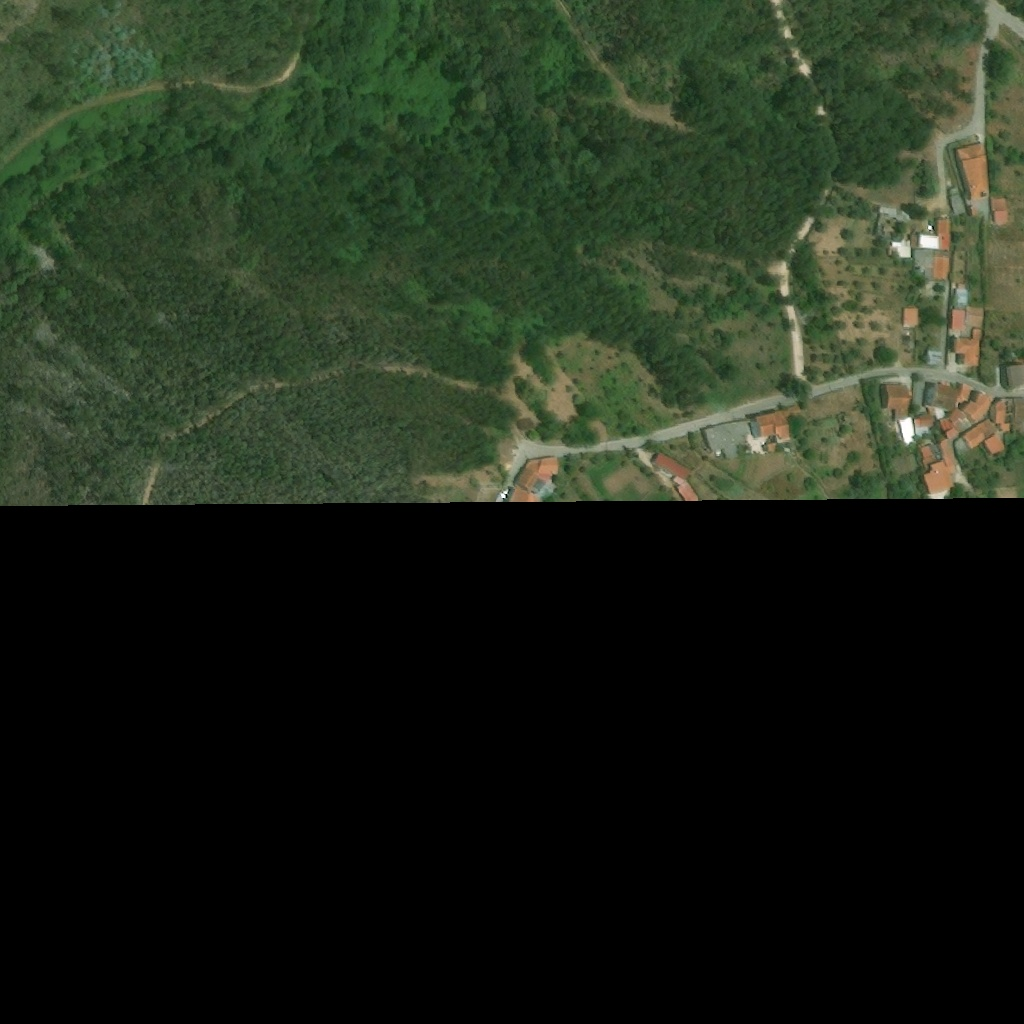0 no-damage: (880, 381, 916, 445), (924, 427, 959, 490), (955, 143, 990, 202), (702, 418, 752, 456), (754, 404, 802, 440), (922, 382, 972, 412), (511, 459, 553, 493), (962, 416, 998, 449), (652, 452, 692, 480), (962, 390, 994, 424), (954, 329, 981, 365), (933, 217, 951, 251), (946, 186, 966, 216), (948, 408, 972, 432), (990, 196, 1008, 224), (996, 401, 1011, 433), (931, 255, 950, 279), (1008, 362, 1023, 390), (984, 435, 1005, 454), (538, 457, 559, 475), (921, 444, 936, 469), (916, 417, 934, 437), (918, 233, 938, 250), (1013, 398, 1023, 432), (927, 349, 944, 368), (902, 309, 919, 327), (892, 242, 910, 258), (954, 284, 967, 306), (951, 309, 965, 329), (938, 417, 952, 432), (677, 482, 695, 492), (672, 476, 684, 485), (1002, 398, 1014, 406)
